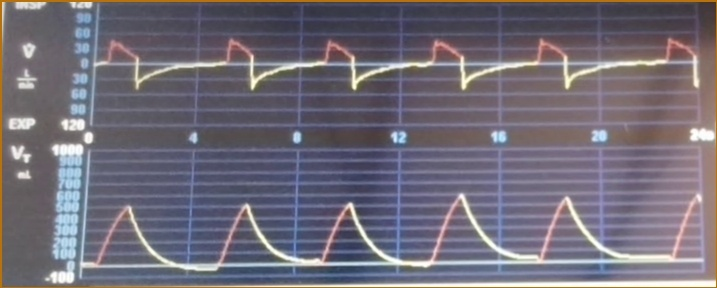Normal Flow: (97, 20, 699, 102)
Normal Volume: (88, 185, 702, 275)
